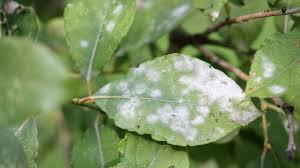powdery_mildew: (60, 51, 269, 158)
